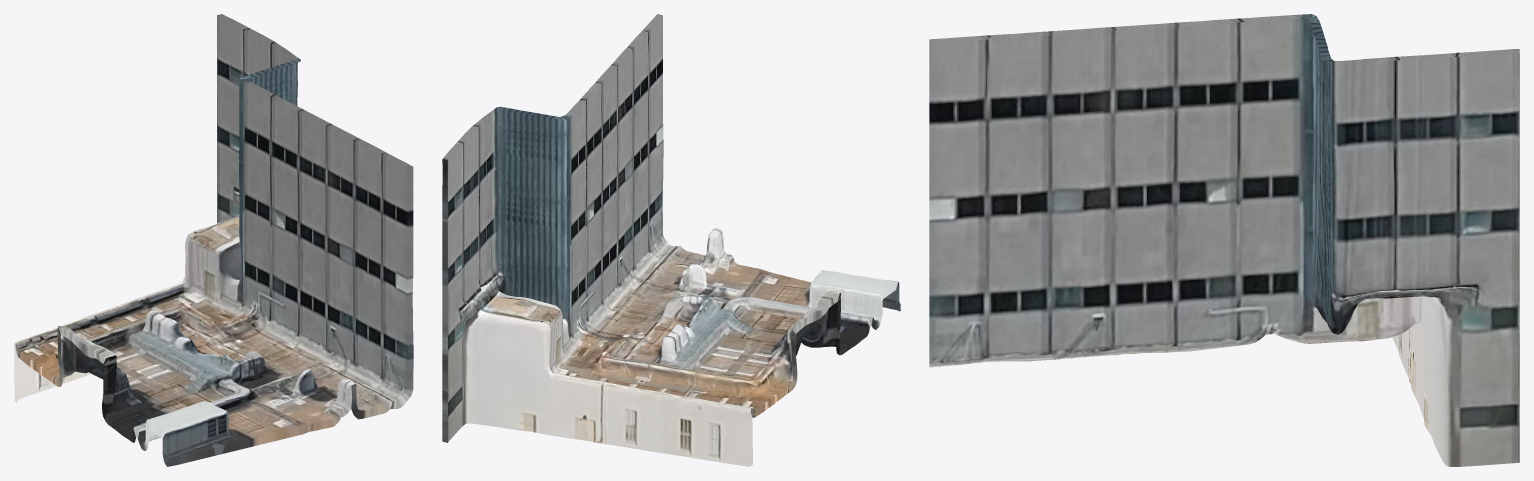
File: z20-167757-405236-h1-yup-uvflip-v3-world.glb
3 renders of one model, left to right at view 1: azimuth 30°, elevation 25°; view 2: azimuth 150°, elevation 25°; view 3: azimuth 270°, elevation 25°, orthographic. The views are drawn at different scales.
Size of the model in its own units: 23.24 by 23.44 by 30.32.
Materials: 1 (1 with a texture image).
